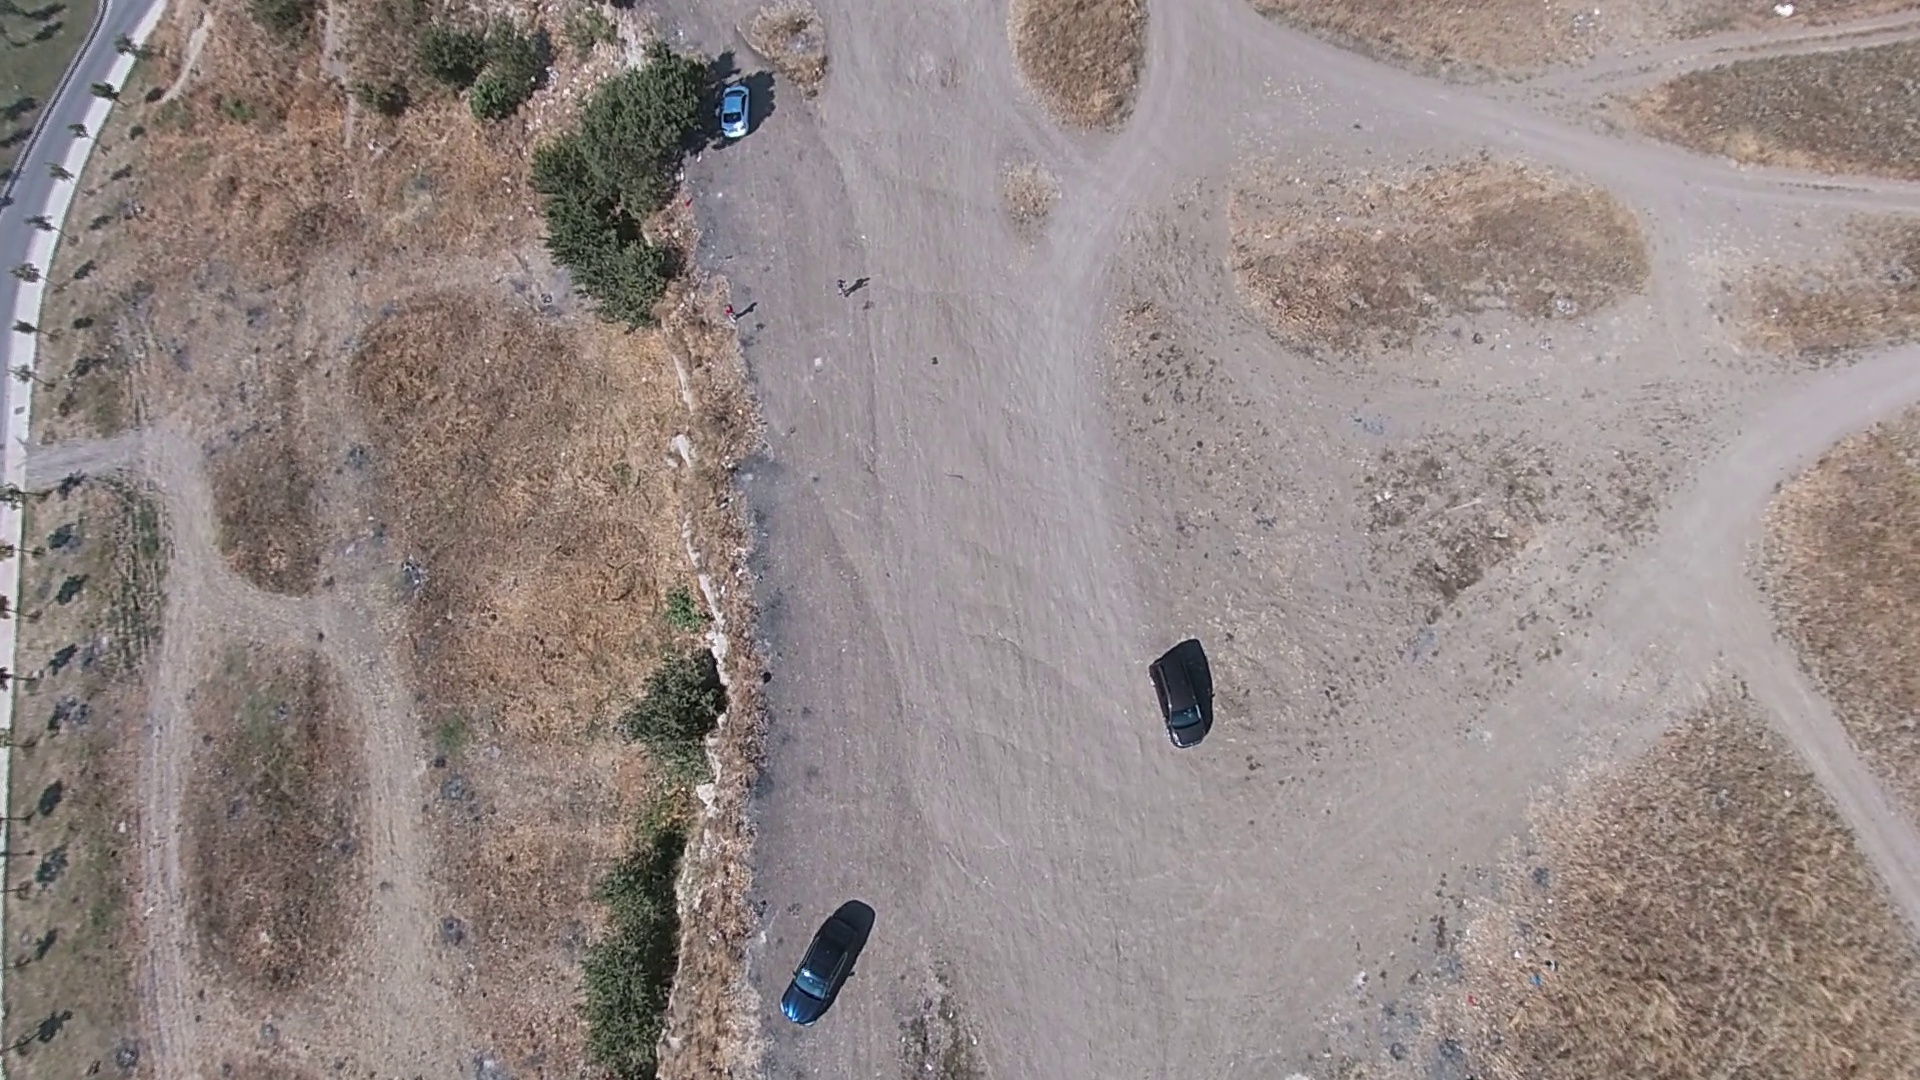arac: (772, 900, 873, 1021), (1143, 641, 1211, 746), (714, 80, 750, 140)
insan: (718, 289, 743, 323), (835, 265, 857, 299)
